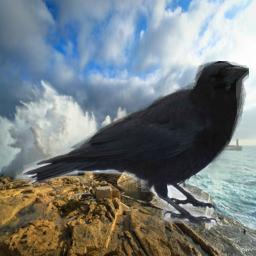Crow: (23, 61, 249, 227)
